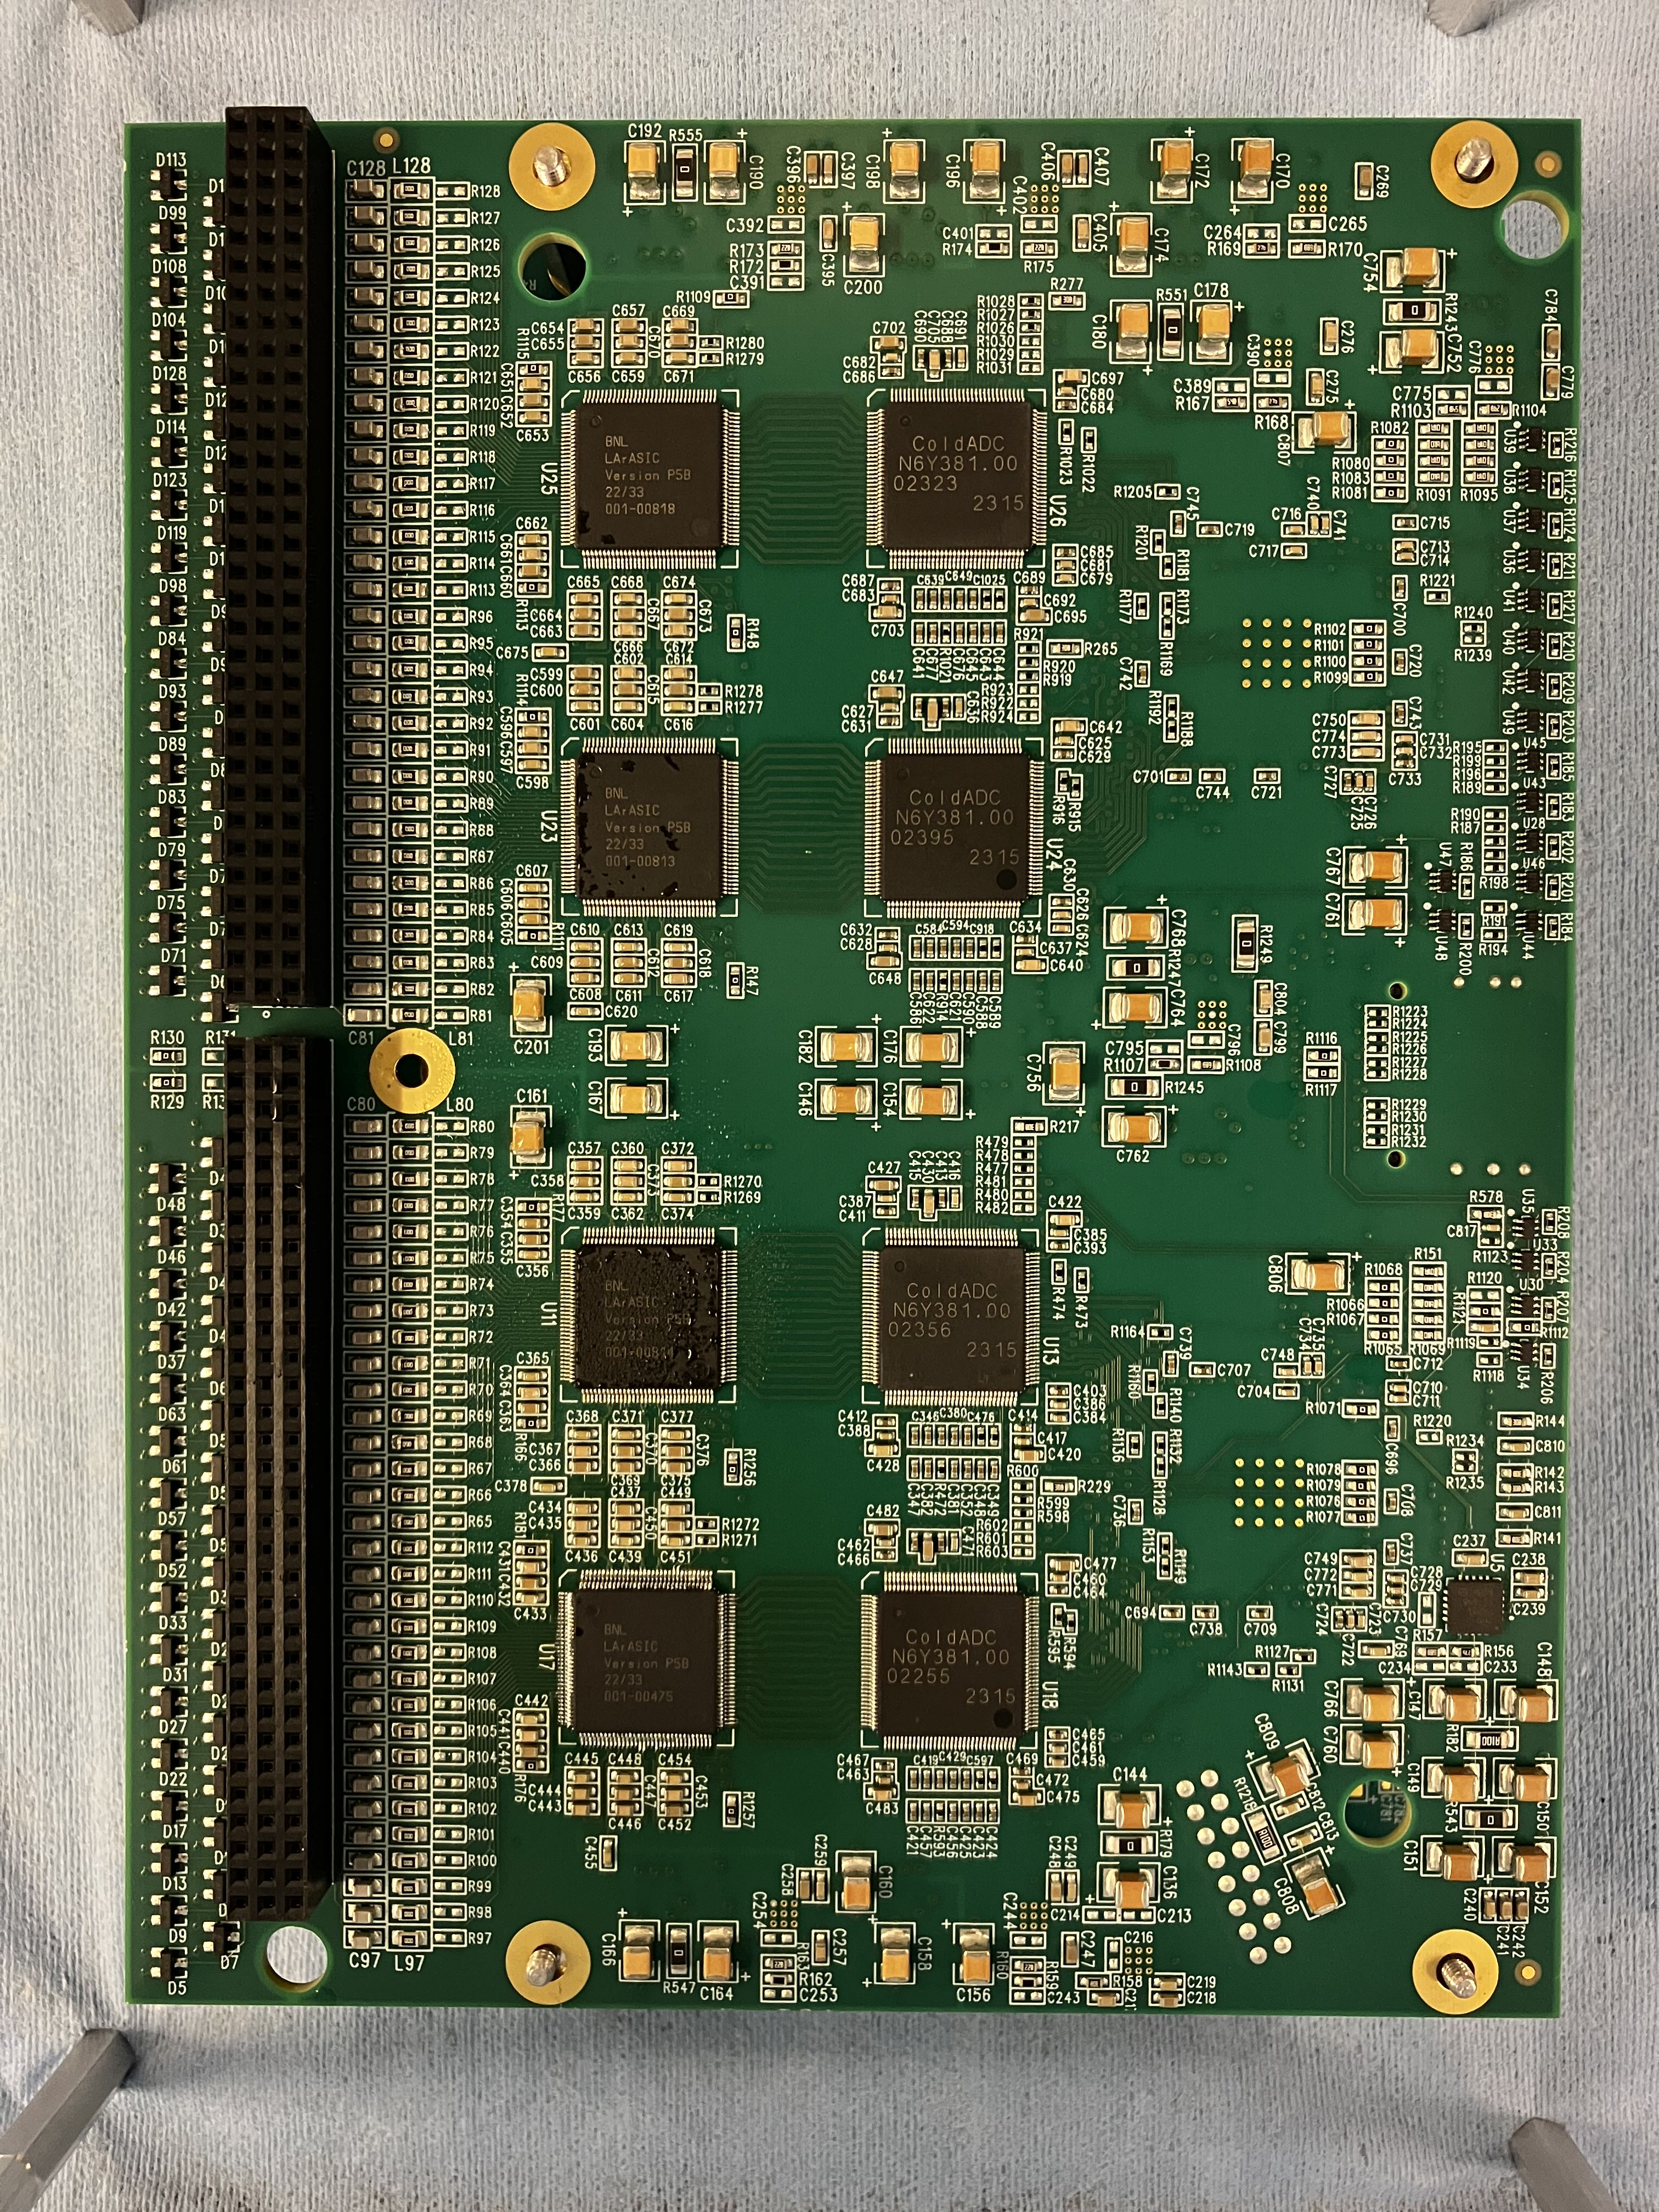chip: (870, 1583, 1025, 1737), (572, 404, 723, 556), (572, 749, 723, 900), (880, 404, 1030, 556), (877, 752, 1028, 902), (570, 1238, 720, 1390), (873, 1242, 1023, 1393), (570, 1581, 720, 1733)
